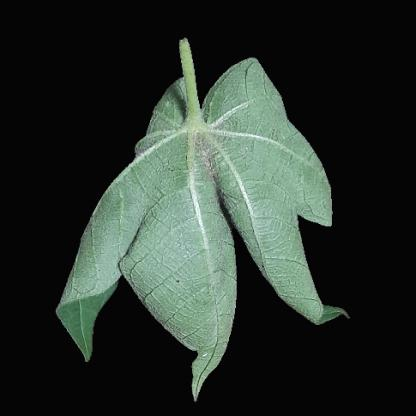curl_stage2: (125, 170, 234, 278), (219, 84, 278, 208), (155, 103, 217, 169), (158, 278, 230, 330), (280, 160, 334, 218), (246, 213, 290, 263), (275, 263, 320, 301), (86, 224, 118, 274), (188, 333, 228, 365)
